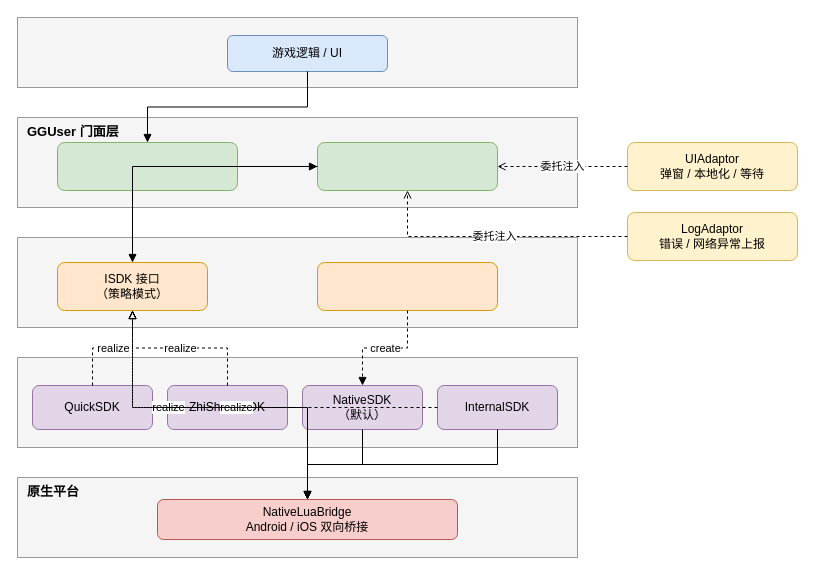
Image size: 815x575. Some labels were removed from this diagram. The box of each missing label's shape, as (x1, y1, x2, y2) in pixels:
SDK 抽象层: (16, 236, 578, 328)
SDKFactory CreateSDK(target): (316, 262, 498, 310)
UserManager Init / Login / Pay / SubmitData: (56, 142, 238, 190)
UserSystem 状态机 + 事件广播: (316, 142, 498, 190)
渠道实现: (16, 356, 578, 448)
游戏业务层: (16, 16, 578, 88)
